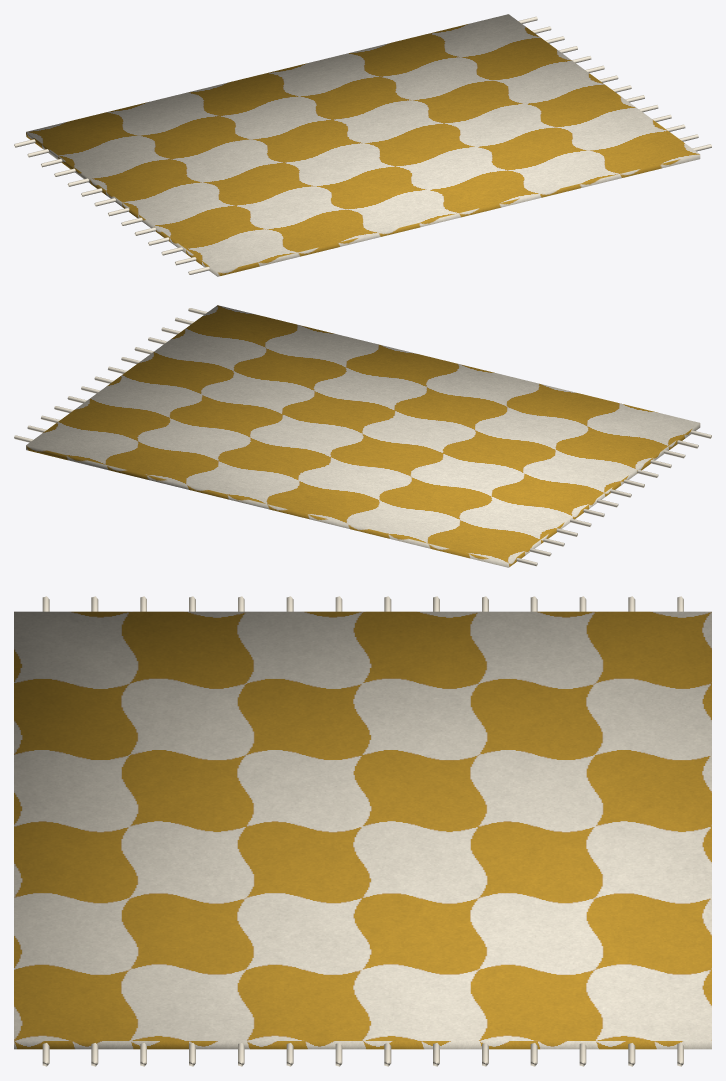
File: rug_checker.glb
The picture shows the model from 3 angles, top to bottom: view 1: azimuth 30°, elevation 25°; view 2: azimuth 150°, elevation 25°; view 3: azimuth 270°, elevation 25°; orthographic projection. The views are drawn at different scales.
Parts seen in each view (by area): view 1: model; view 2: model; view 3: model.
Boxes of the visible parts, x1,y1,x2,y2 form: model: [14, 14, 711, 276]; model: [14, 305, 711, 567]; model: [14, 596, 711, 1066].
Bounding box in the file's own units: 1.73 × 0.015 × 1.1.
2 materials, 2 textured.
